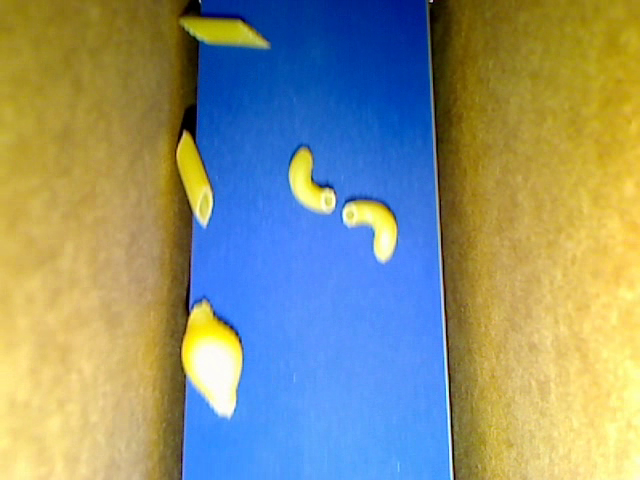elbow: (340, 198, 399, 263), (288, 145, 336, 214)
penne: (173, 128, 212, 228), (177, 16, 268, 47)
shell: (181, 297, 243, 418)
